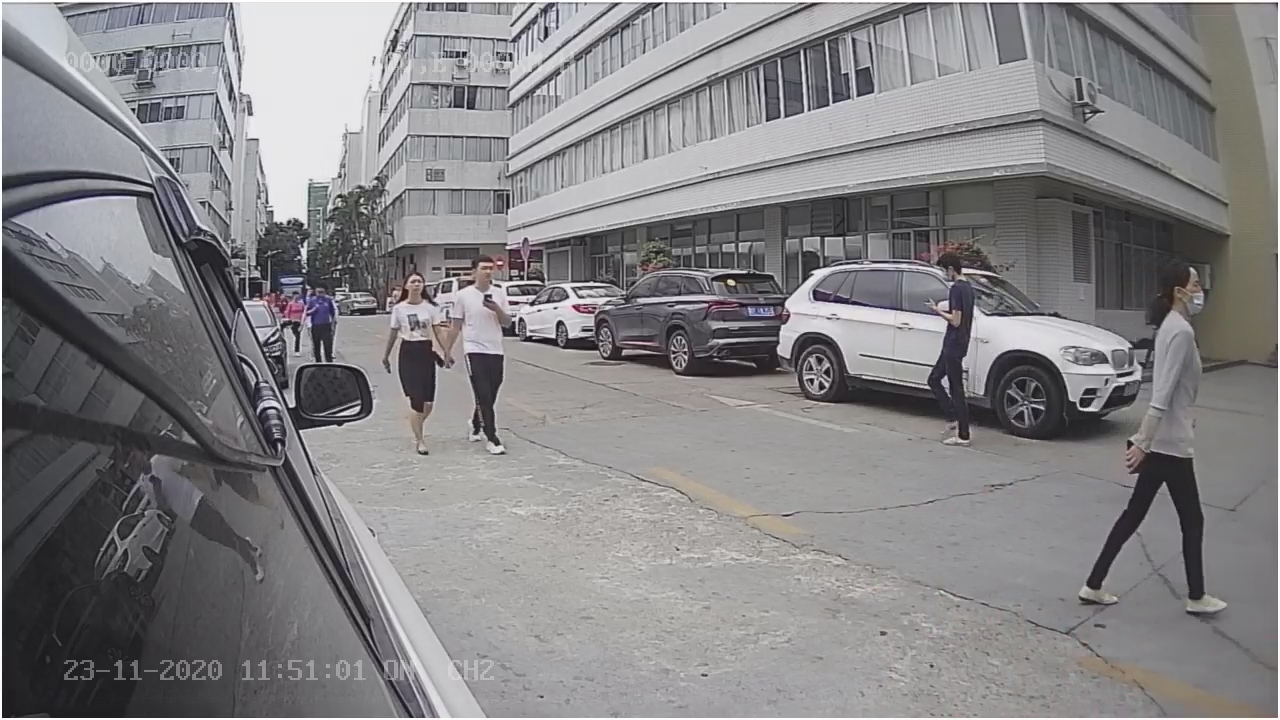person: (1074, 246, 1226, 612), (915, 246, 986, 453), (379, 270, 452, 453)
